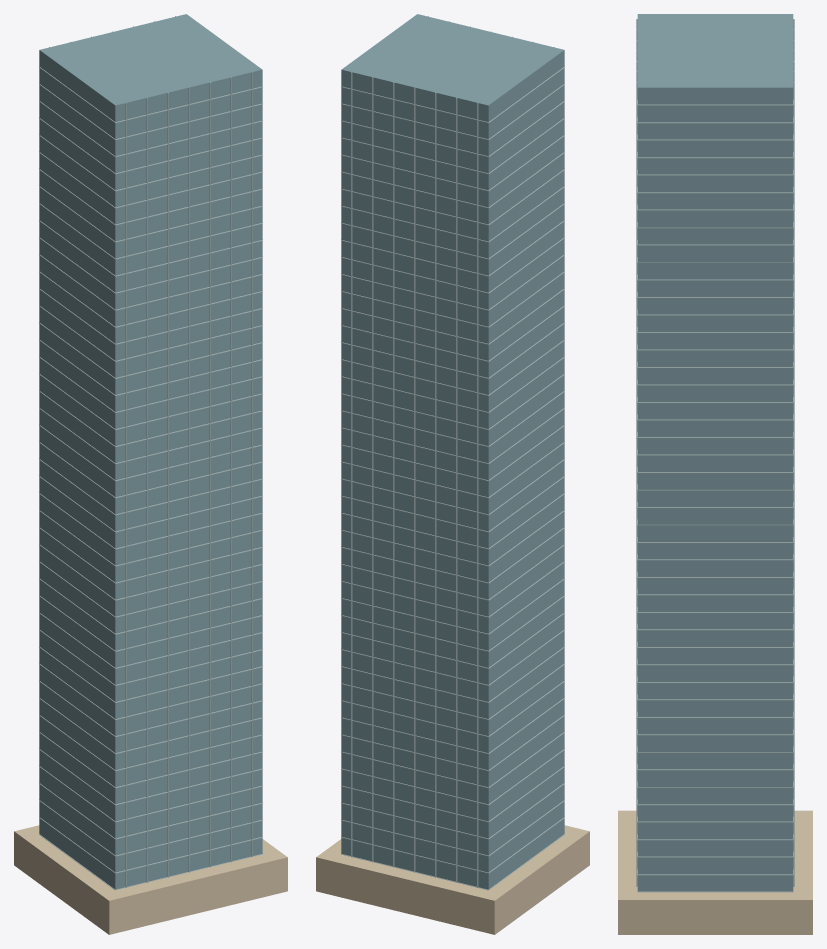
The model's file is construction-bank.glb.
3 views of the same model, side by side, from view 1: azimuth 30°, elevation 25°; view 2: azimuth 150°, elevation 25°; view 3: azimuth 270°, elevation 25° (orthographic). The views are drawn at different scales.
Parts seen in each view (by area): view 1: construction-bank; view 2: construction-bank; view 3: construction-bank.
Part boxes in pixels (<box>): construction-bank: <box>14,14,287,934</box>; construction-bank: <box>316,14,589,934</box>; construction-bank: <box>618,14,812,934</box>.
Size of the model in its own units: 49.33 by 216 by 45.44.
